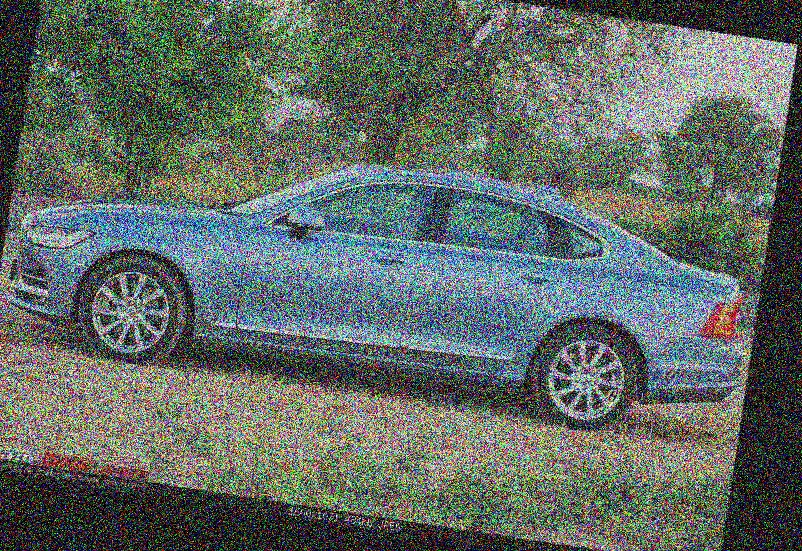car: (0, 40, 782, 487)
